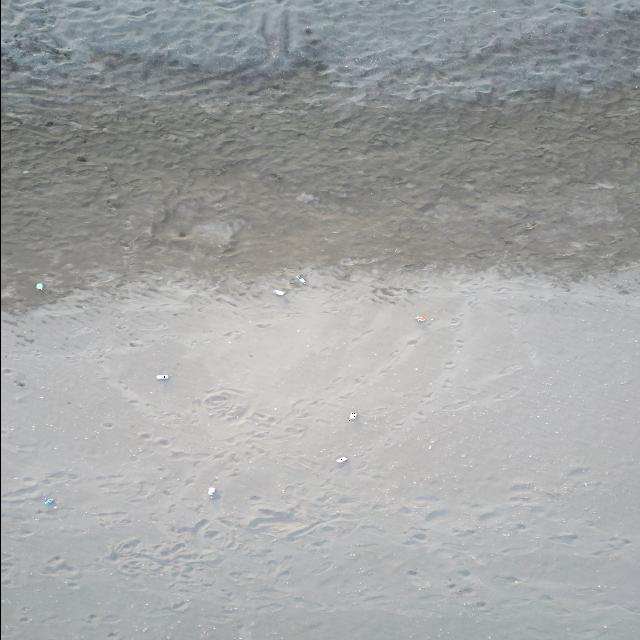Garbage: (296, 192, 316, 203), (43, 496, 55, 506), (295, 273, 306, 283), (524, 221, 535, 230), (416, 313, 427, 322), (336, 455, 347, 463), (272, 288, 284, 295), (156, 373, 167, 379), (35, 281, 43, 289), (207, 487, 215, 495), (348, 412, 356, 420), (76, 156, 85, 160)
